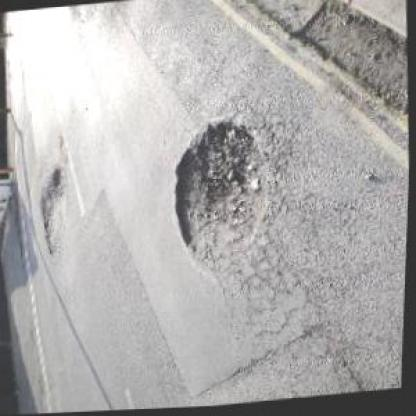pothole: (165, 116, 272, 270), (286, 0, 409, 132), (33, 164, 75, 259)
